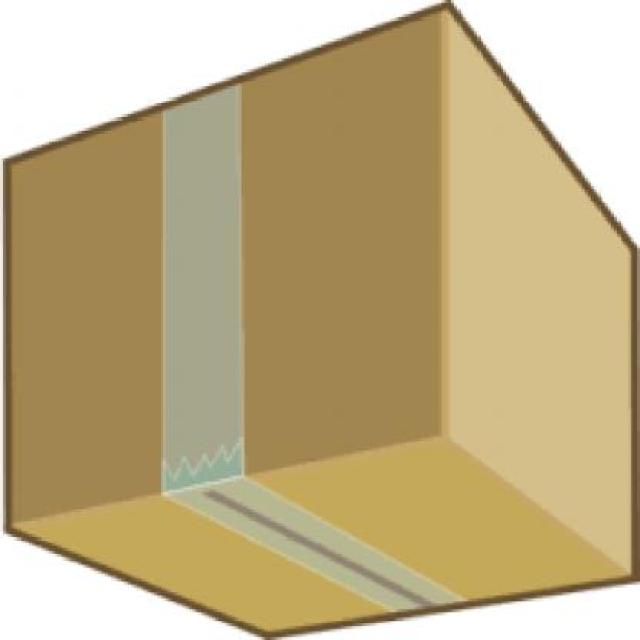CARDBOARD: (3, 3, 639, 639)
